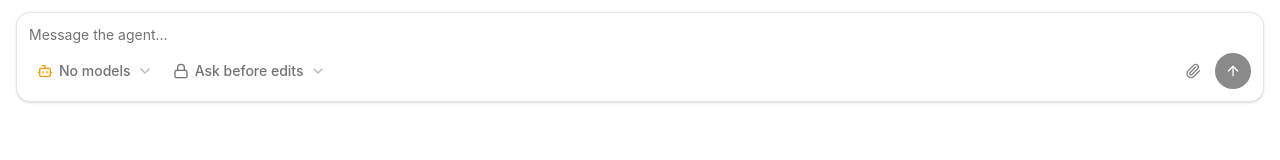
Test: shows 'No models available' when the models list is empty
Step 1. Click the button with aria-label "Model:" → x=95, y=71, box [29, 53, 161, 89]
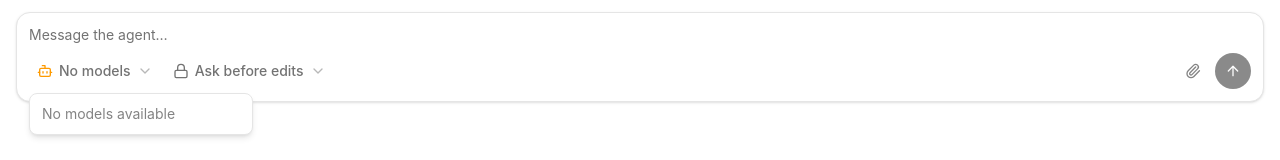
Expected: the menu item "No models available" is shown, [42, 105, 175, 122]
